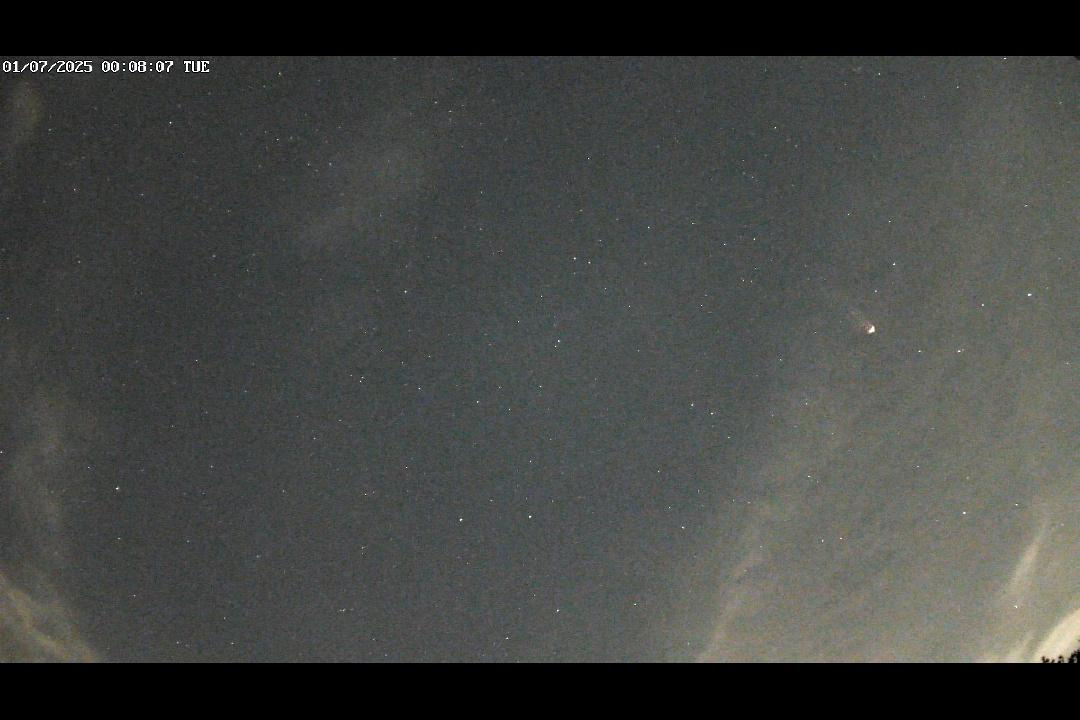Plane: (829, 290, 891, 339)
